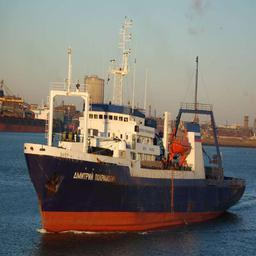Ship: (19, 47, 248, 240)
